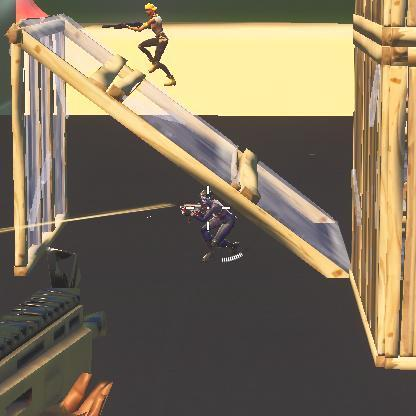person: (127, 3, 171, 82), (192, 191, 236, 249), (199, 202, 236, 249)
